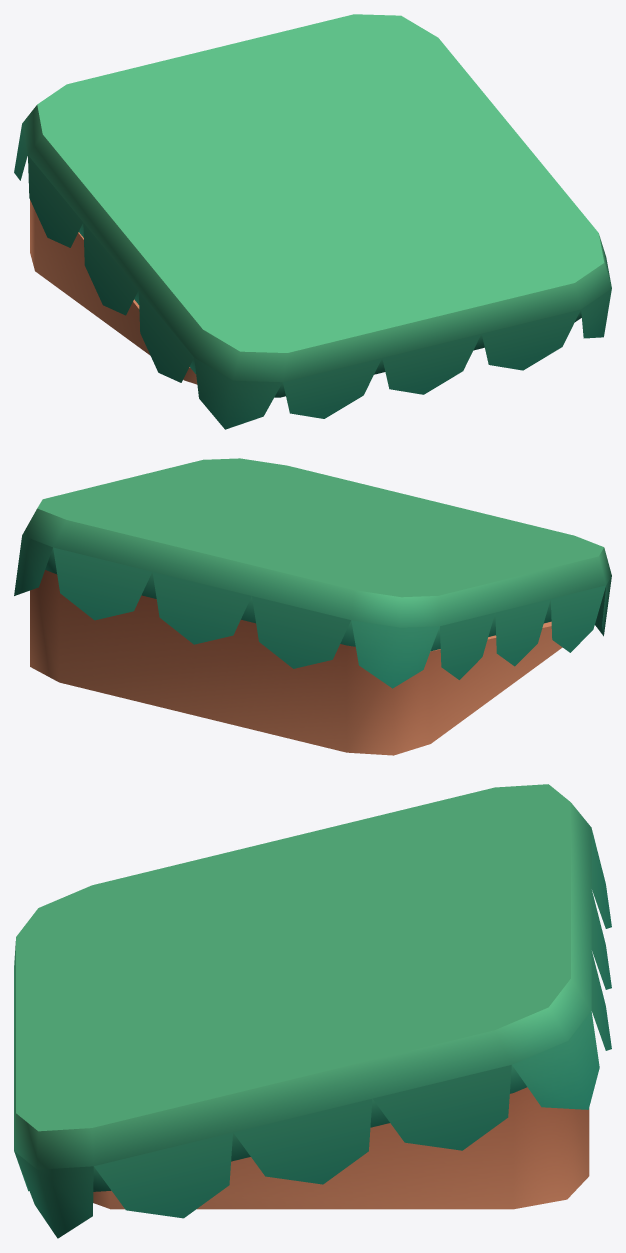
Rendered from block_grass_overhang_large_slope.glb.
The picture shows the model from 3 angles, top to bottom: view 1: azimuth 30°, elevation 25°; view 2: azimuth 150°, elevation 25°; view 3: azimuth 270°, elevation 25°; orthographic projection. The views are drawn at different scales.
Visible parts, largest first — view 1: block-grass-overhang-large-slope; view 2: block-grass-overhang-large-slope; view 3: block-grass-overhang-large-slope.
Boxes of the visible parts, x1,y1,x2,y2 form: block-grass-overhang-large-slope: (14, 14, 611, 429); block-grass-overhang-large-slope: (14, 458, 611, 755); block-grass-overhang-large-slope: (14, 784, 611, 1238).
Size of the model in its own units: 2.08 by 0.9144 by 2.08.
Materials: 1 (1 with a texture image).
